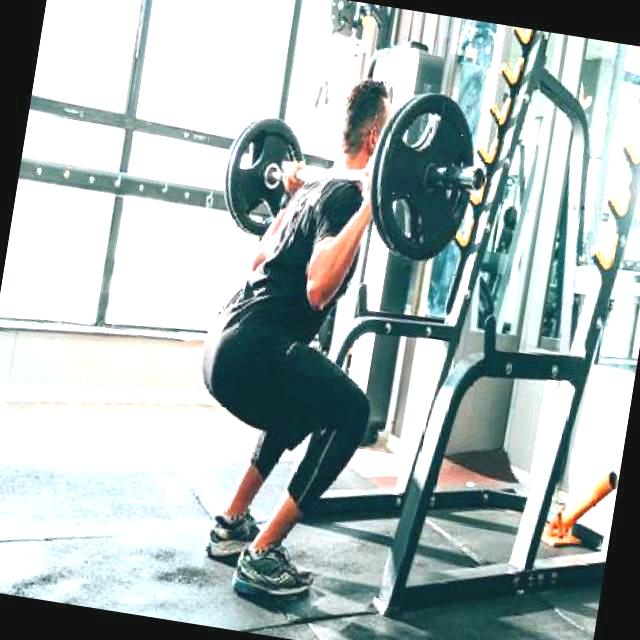barbell: (354, 76, 505, 280)
